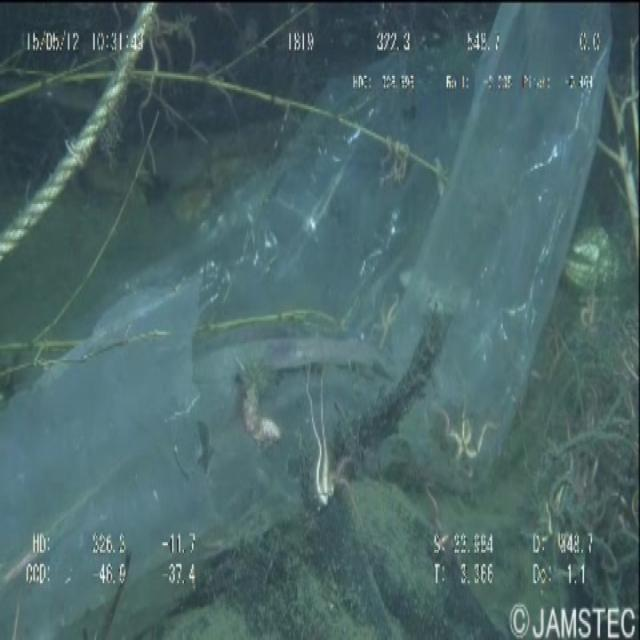Plastic: (1, 6, 613, 636)
Rope: (1, 6, 160, 269)
